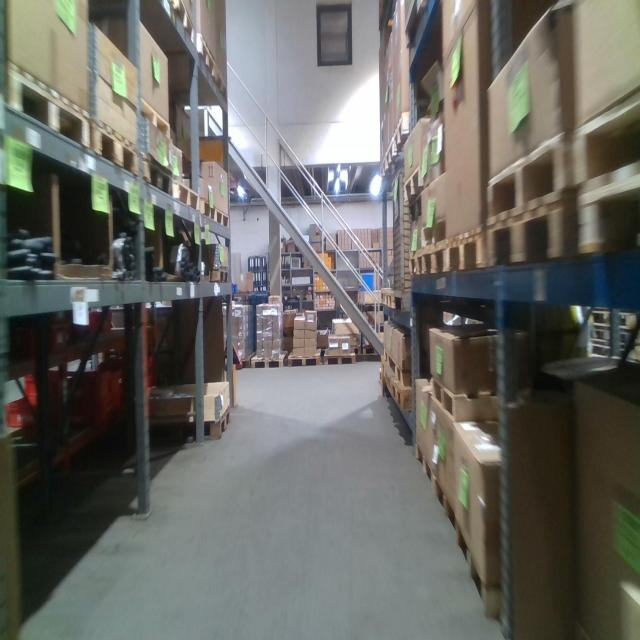pallet: (483, 129, 581, 218), (2, 64, 95, 156), (570, 82, 640, 191), (486, 192, 578, 268), (578, 162, 640, 255), (458, 522, 508, 619), (431, 373, 504, 423), (150, 404, 232, 443), (94, 115, 141, 181), (154, 0, 196, 49), (446, 224, 488, 269), (432, 471, 462, 531), (140, 96, 172, 139), (143, 156, 173, 198), (419, 237, 449, 277), (421, 212, 449, 252), (417, 438, 436, 496), (404, 162, 430, 203), (197, 33, 216, 85), (393, 109, 414, 155), (172, 177, 199, 211), (391, 379, 417, 409), (286, 349, 321, 370), (251, 351, 284, 371), (322, 349, 357, 367), (393, 360, 416, 386), (199, 196, 217, 223), (407, 253, 423, 279), (215, 209, 230, 230), (386, 136, 394, 173), (383, 365, 391, 394), (386, 289, 396, 310), (383, 347, 393, 366), (380, 288, 390, 303), (380, 153, 385, 181)
pallet_truck: (221, 278, 247, 368)
small_load_carrier: (4, 390, 48, 430), (79, 309, 115, 343), (44, 320, 71, 355)
